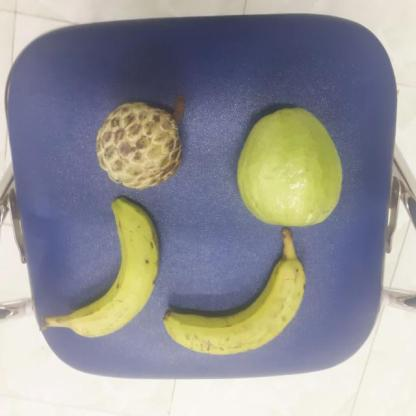annona: (95, 101, 182, 192)
banana: (57, 198, 165, 342), (160, 256, 312, 356)
guava: (235, 108, 346, 230)
